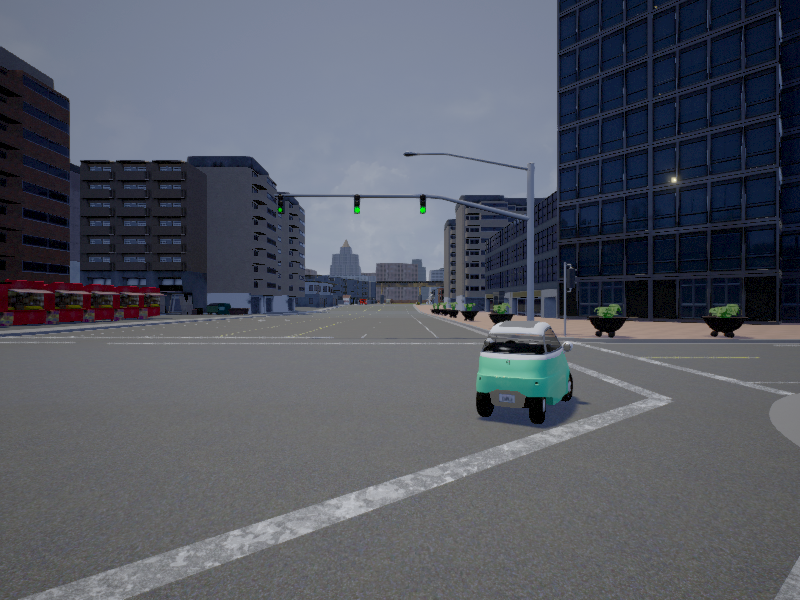Benign: (470, 321, 576, 430)
